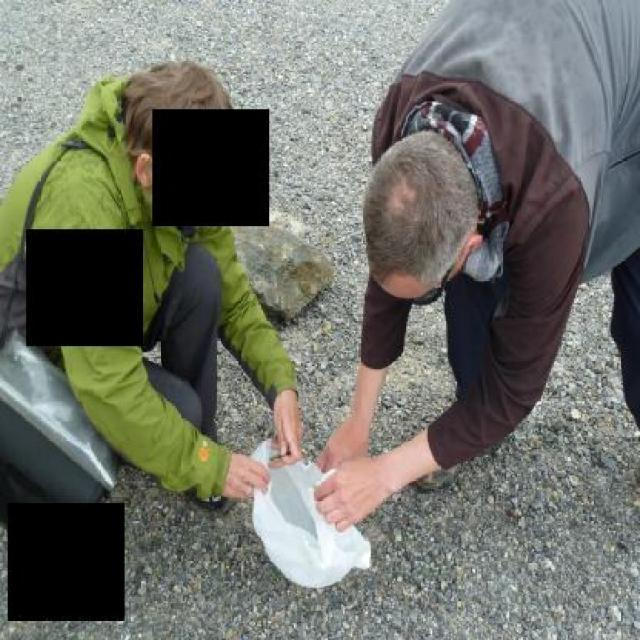plastic bag: (0, 327, 118, 498), (246, 432, 369, 588)
